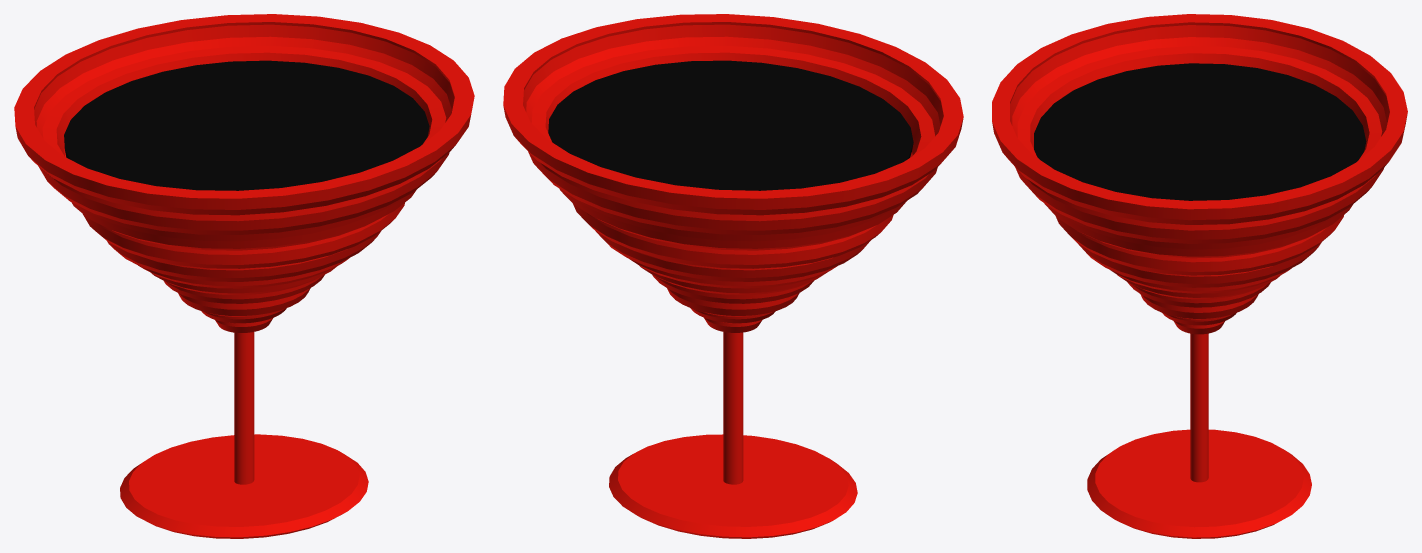
The model's file is Glass2.FBX.
The picture shows the model from 3 angles, left to right: view 1: azimuth 30°, elevation 25°; view 2: azimuth 150°, elevation 25°; view 3: azimuth 270°, elevation 25°; orthographic projection. The views are drawn at different scales.
Visible parts, largest first — view 1: Object004, Object006, Line010; view 2: Object004, Object006, Line010; view 3: Object004, Object006, Line010.
Boxes of the visible parts, x1=… form: Object004: x1=14, y1=14, x2=474, y2=332; Object006: x1=64, y1=60, x2=429, y2=190; Line010: x1=120, y1=332, x2=368, y2=538; Object004: x1=503, y1=14, x2=963, y2=332; Object006: x1=548, y1=60, x2=913, y2=190; Line010: x1=609, y1=332, x2=857, y2=538; Object004: x1=992, y1=14, x2=1407, y2=334; Object006: x1=1034, y1=63, x2=1366, y2=200; Line010: x1=1087, y1=333, x2=1311, y2=538.
Size of the model in its own units: 76.97 by 69.34 by 69.28.
